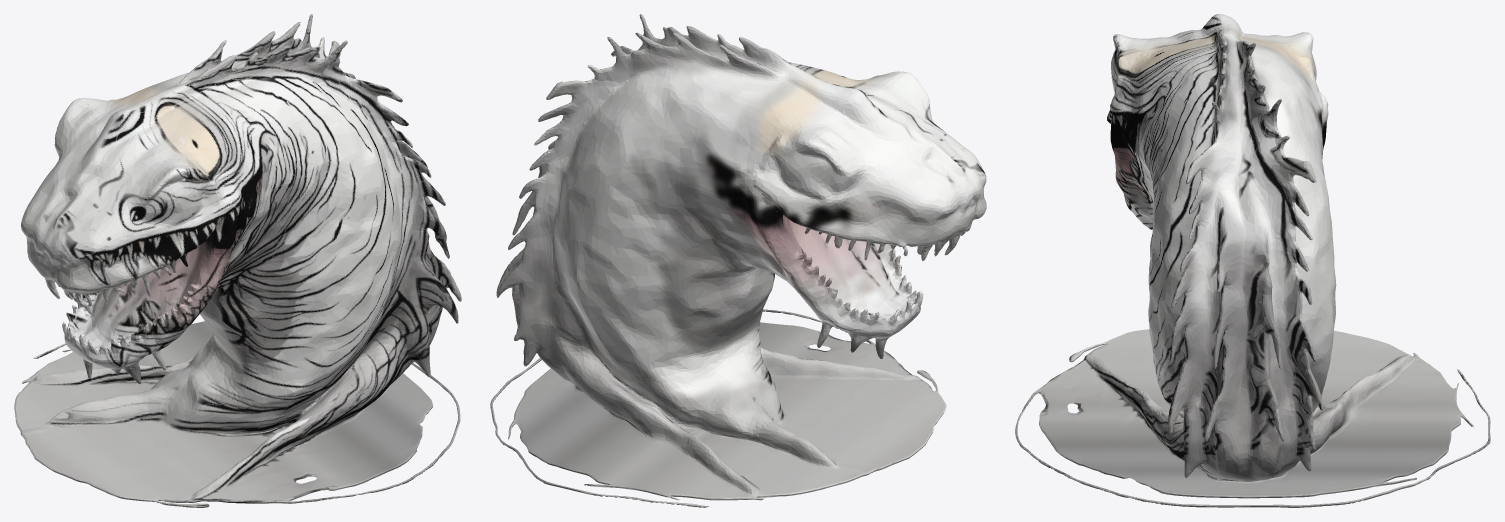
File: the_big_sucker_local.glb
3 views of the same model, side by side, from view 1: azimuth 30°, elevation 25°; view 2: azimuth 150°, elevation 25°; view 3: azimuth 270°, elevation 25° (orthographic).
Parts seen in each view (by area): view 1: geometry_0; view 2: geometry_0; view 3: geometry_0.
Part boxes in pixels (bbox=[...]): geometry_0: bbox=[14, 14, 461, 507]; geometry_0: bbox=[490, 14, 986, 507]; geometry_0: bbox=[1015, 14, 1490, 507].
Bounding box in the file's own units: 4.34 × 3.6 × 4.15.
Materials: 1 (1 with a texture image).
